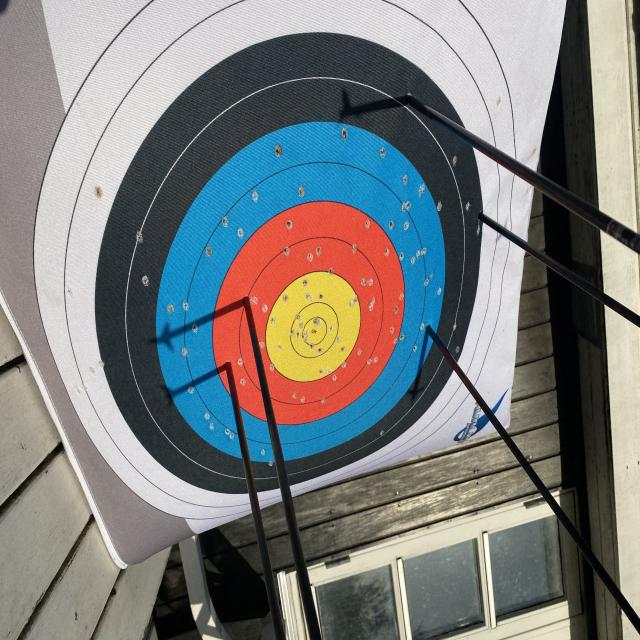Arrow_Black: (398, 79, 424, 122), (467, 197, 486, 233)
Arrow_Blue: (416, 311, 439, 347)
Arrow_Red: (235, 276, 259, 326), (218, 351, 239, 386)
